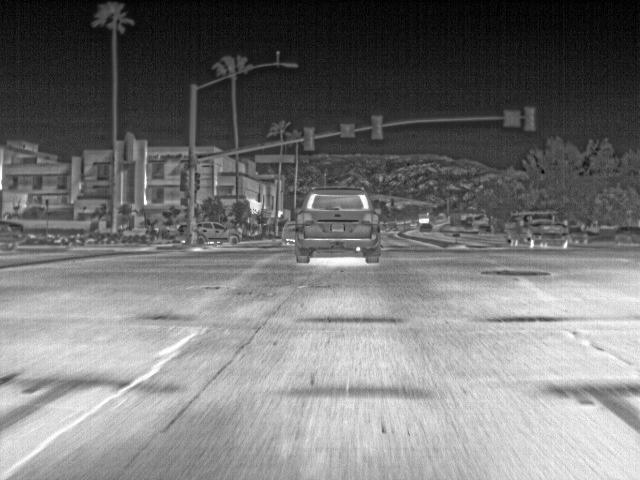car: (295, 186, 382, 264), (523, 211, 571, 249), (196, 221, 243, 246), (1, 220, 29, 250), (613, 225, 640, 247), (570, 225, 589, 245), (280, 220, 295, 245), (421, 221, 434, 232), (464, 221, 474, 231), (482, 225, 492, 233)
person: (509, 214, 522, 248), (190, 216, 199, 244)
